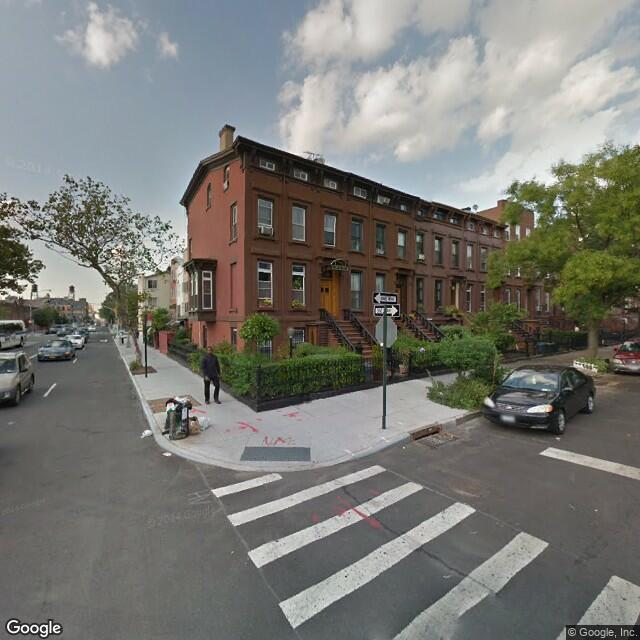litter: (135, 420, 159, 446), (193, 410, 211, 440), (551, 432, 569, 443)
